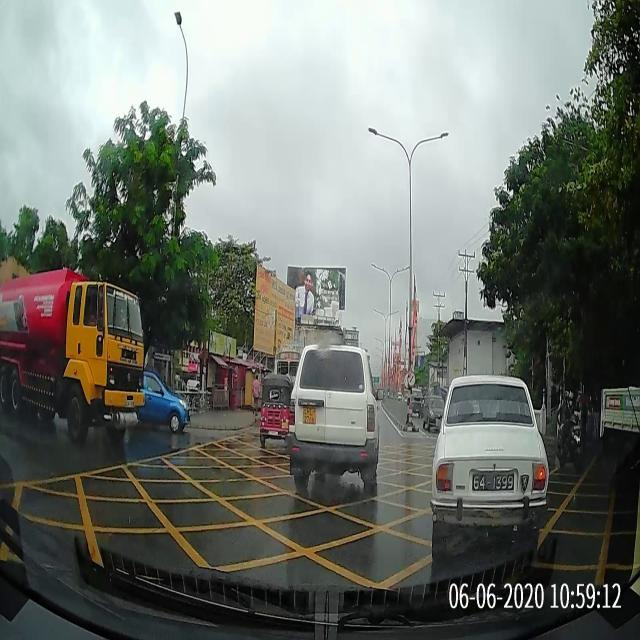Jeltaya razmetka: (3, 428, 636, 583)
